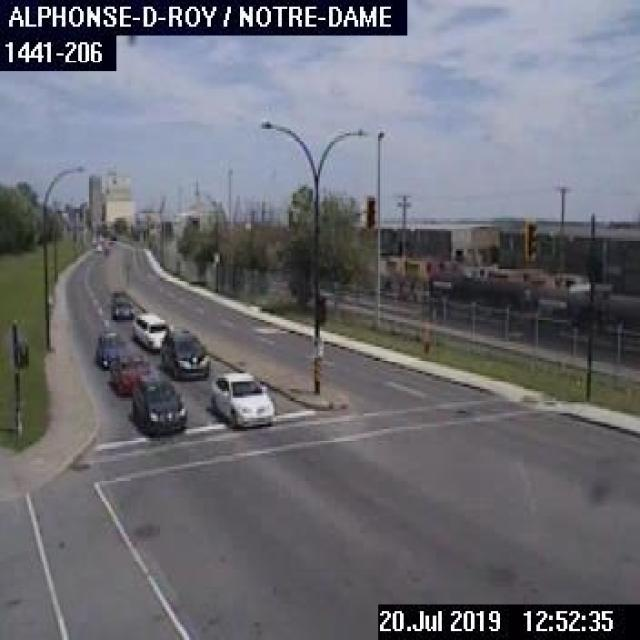vehicle: (126, 368, 192, 440), (208, 366, 274, 431), (156, 323, 212, 379), (108, 349, 152, 395), (130, 307, 170, 351), (94, 326, 128, 372), (107, 288, 131, 320)
